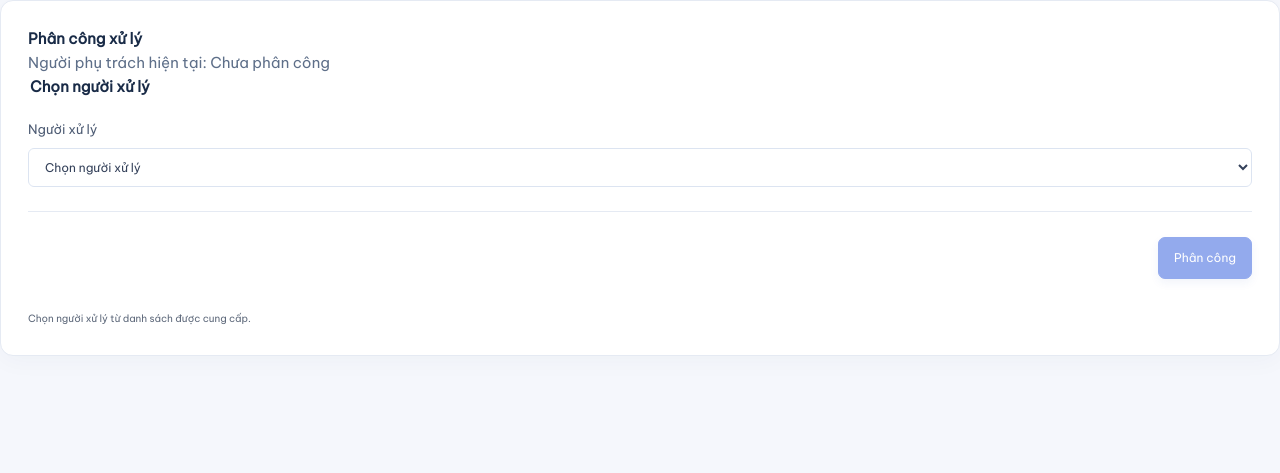
it: APP-11 assignment selection and single write › does not retry FORBIDDEN and keeps the write stopped
The width and height of the screenshot is (1280, 473).
Later steps or results of the test are not shown.
Select "Nguyễn An" in the dropdown at (640, 168), box [28,148,1252,187]
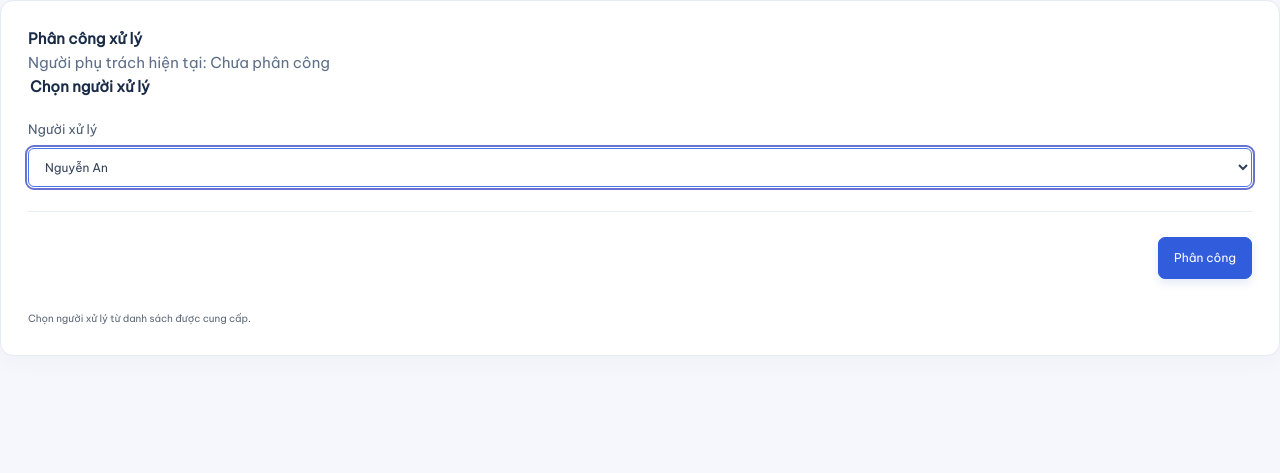
Double-click the button "Phân công" at (1205, 258), box [1158,237,1252,279]
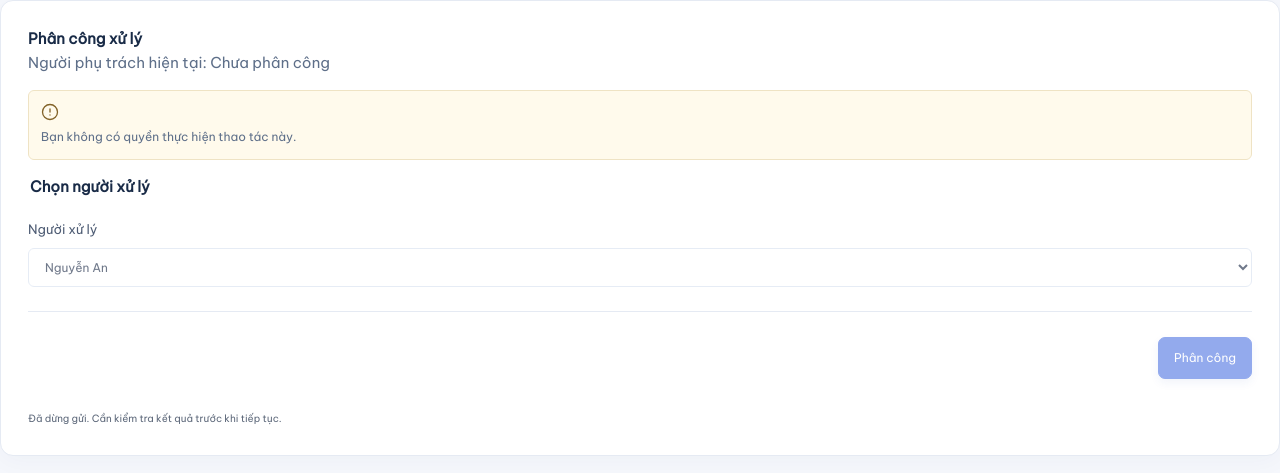
Expected: the message "Bạn không có quyền thực hiện thao tác này." is shown, [28,90,1252,160]
Expected: the button "Phân công" is disabled, [1158,337,1252,379]
